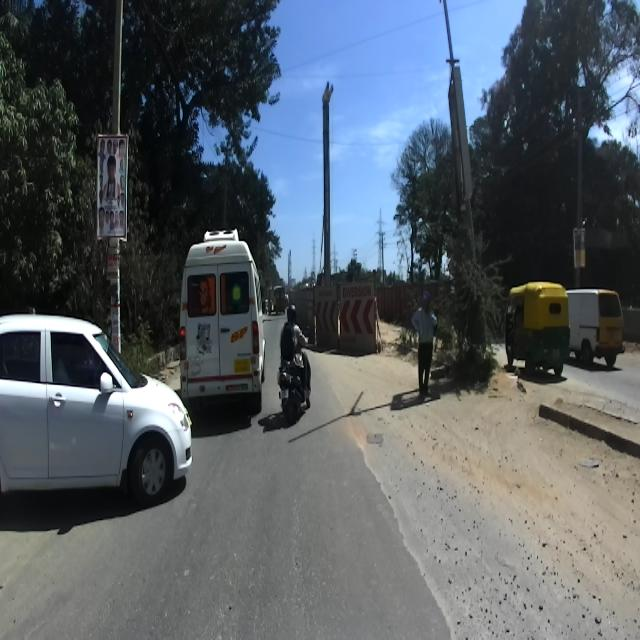auto ahead at: (506, 274, 573, 378)
bus ahead at: (176, 230, 270, 426)
car ahead at: (0, 306, 192, 556)
motorcycle ahead at: (274, 358, 318, 426)
person ahead at: (404, 284, 440, 398)
